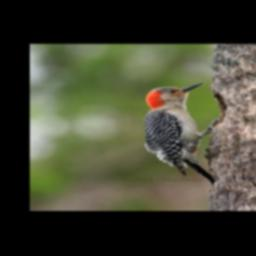Woodpecker: (135, 79, 220, 190)
